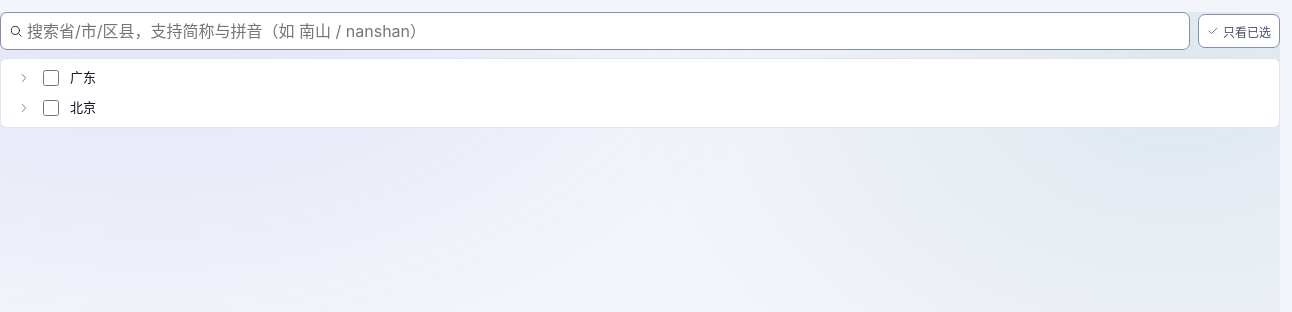
it: DistrictTree · 展开与三态 › 叶子（区县）没有展开三角；两层直辖市的区同理
Click the button with test id "district-expand-110000": (24, 108) x1=13 y1=97 x2=35 y2=119
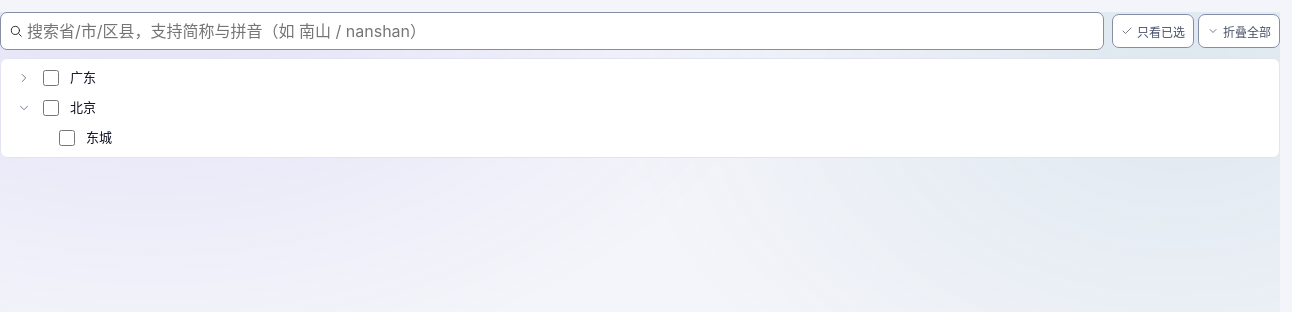
Check: the checkbox with test id "district-opt-110101" is shown, box x1=59 y1=130 x2=75 y2=146
